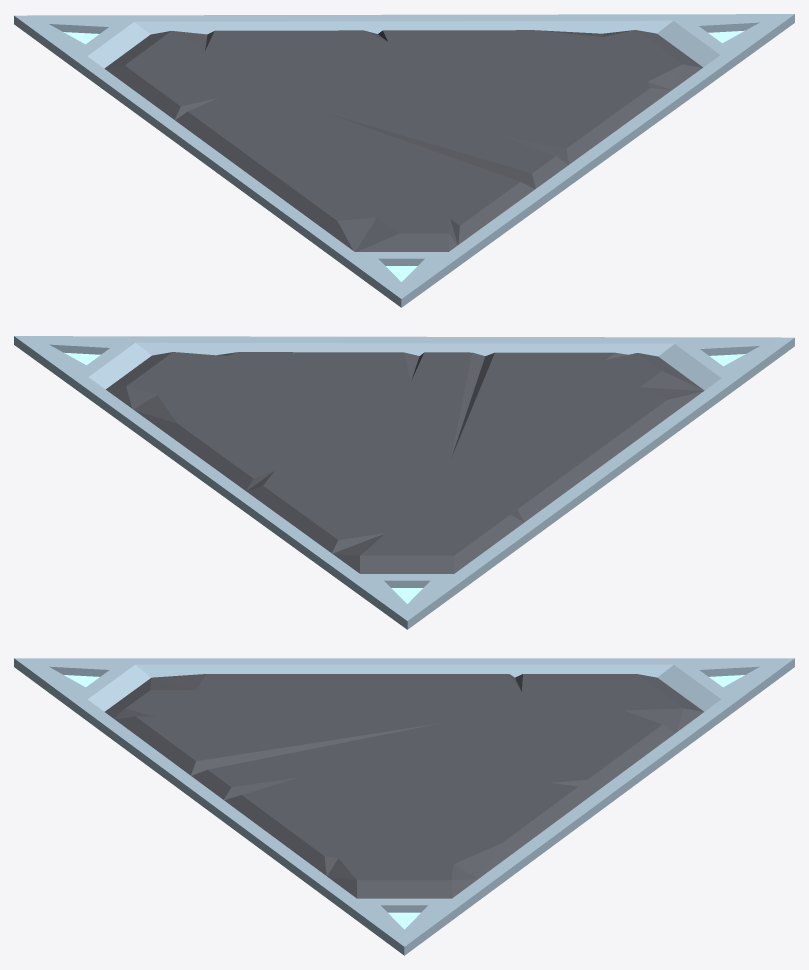
File: Floor_Small_Triangle.fbx
The picture shows the model from 3 angles, top to bottom: view 1: azimuth 30°, elevation 25°; view 2: azimuth 150°, elevation 25°; view 3: azimuth 270°, elevation 25°; orthographic projection.
Visible parts, largest first — view 1: Floor_Small_Triangle; view 2: Floor_Small_Triangle; view 3: Floor_Small_Triangle.
Part boxes in pixels (x1,y1,x2,y2): Floor_Small_Triangle: (14, 14, 794, 307); Floor_Small_Triangle: (14, 336, 794, 629); Floor_Small_Triangle: (14, 658, 794, 955).
Bounding box in the file's own units: 3.5 × 0.0502 × 4.
